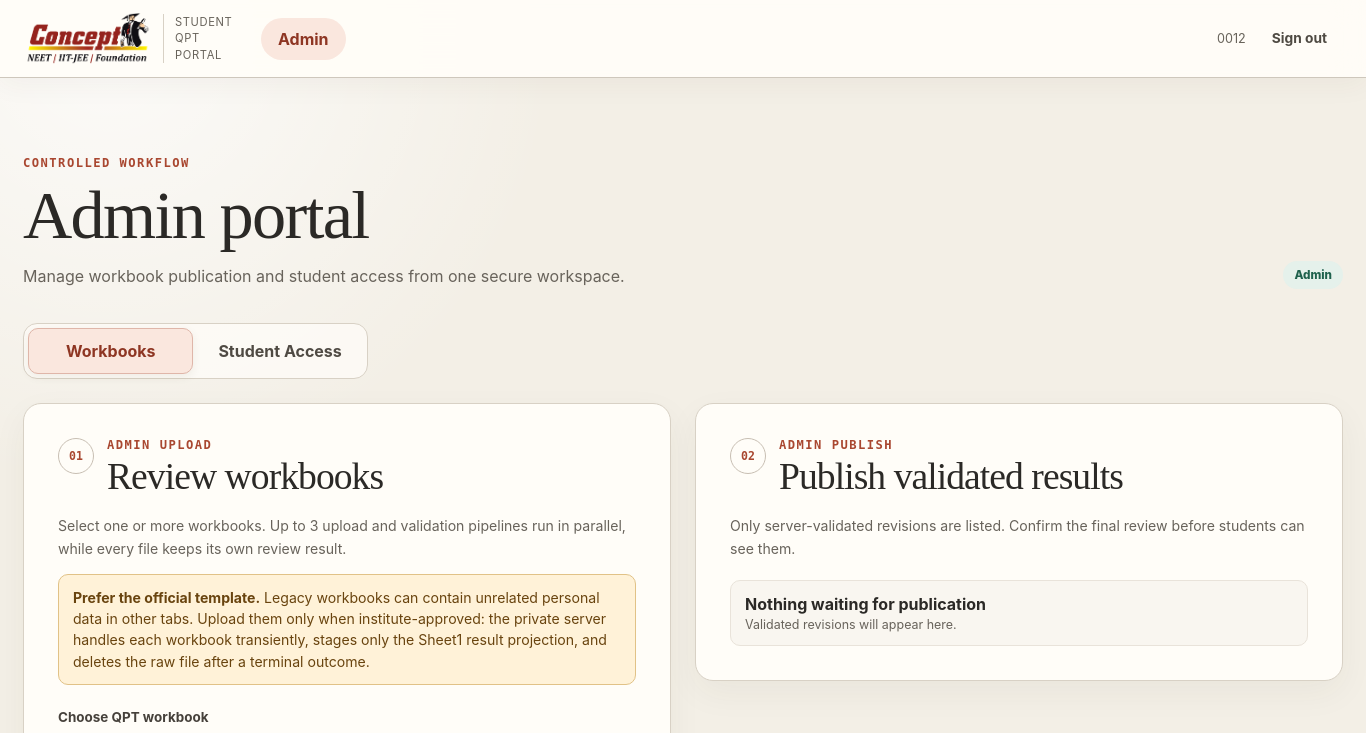
Test: student portal › lets the unified admin issue a student login and reveals the temporary password once
Click the tab "Student Access" at (280, 351), box [197,328,363,374]
(page scrolled)
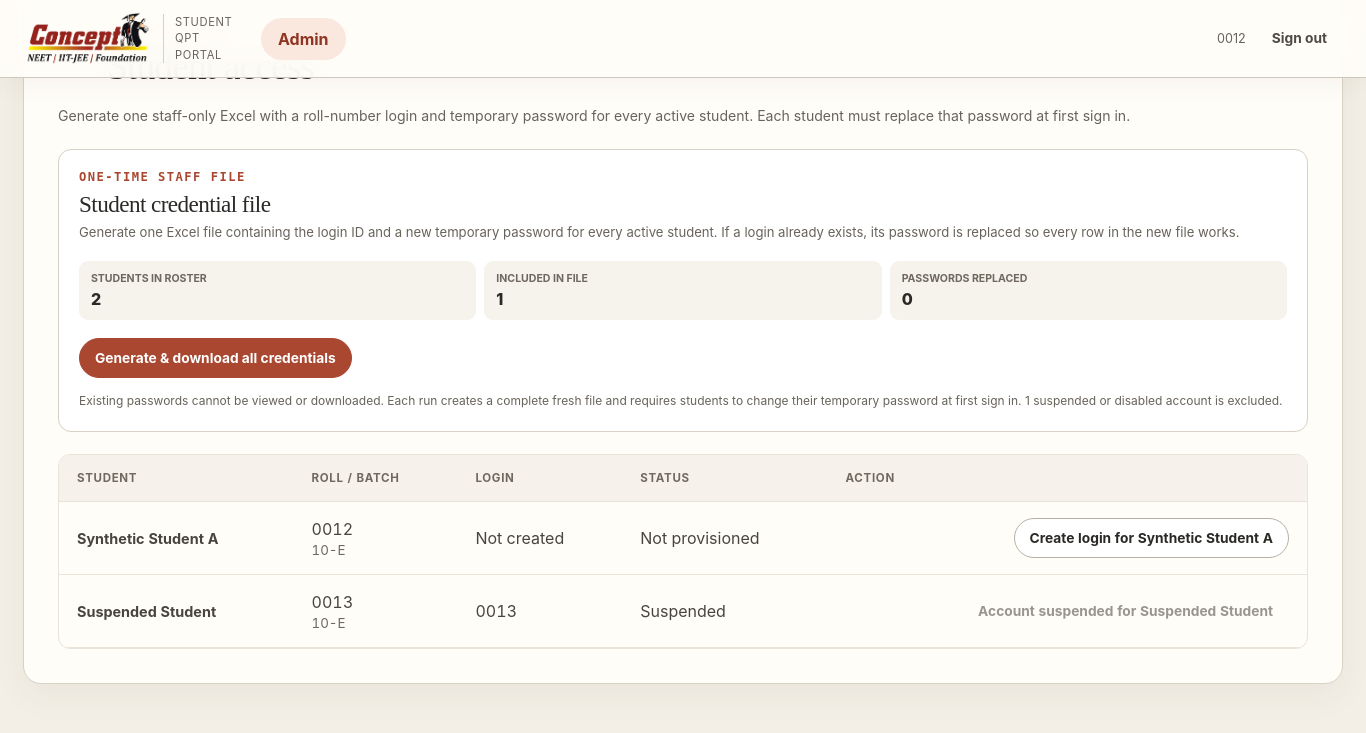
Expected: the heading "Student access" is shown, [107,47,314,87]
Expected: the column heading "Synthetic Student A" is shown, [59,502,294,575]
Expected: the button "Account suspended for Suspended Student" is disabled, [962,591,1289,631]
Click the button "Create login for Synthetic Student A" at (1151, 538), box [1014,518,1289,558]
(page scrolled)
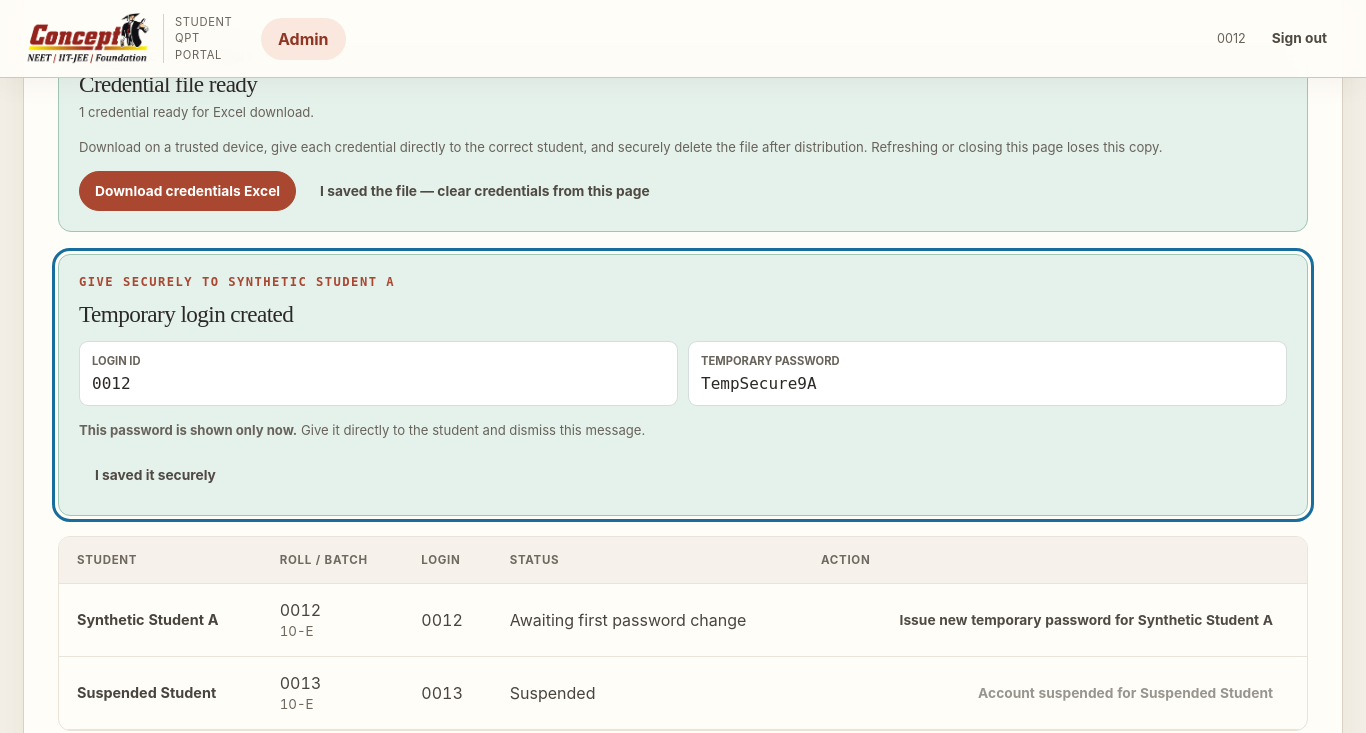
Expected: the text "TempSecure9A" is shown, [701,374,817,393]
Expected: the text "This password is shown only now." is shown, [79,422,297,438]
